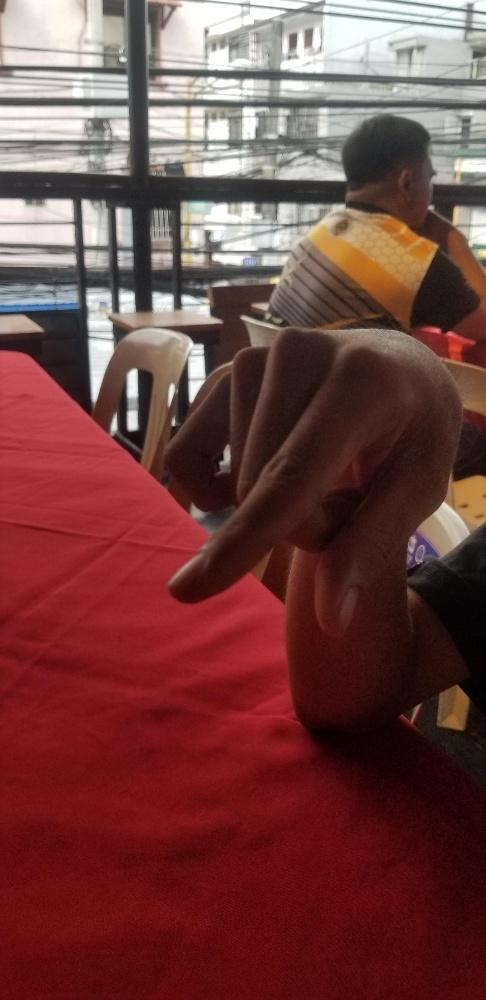z: (164, 319, 464, 640)
